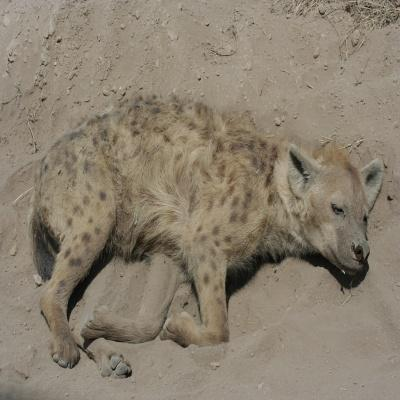hyenas: (12, 88, 400, 383)
